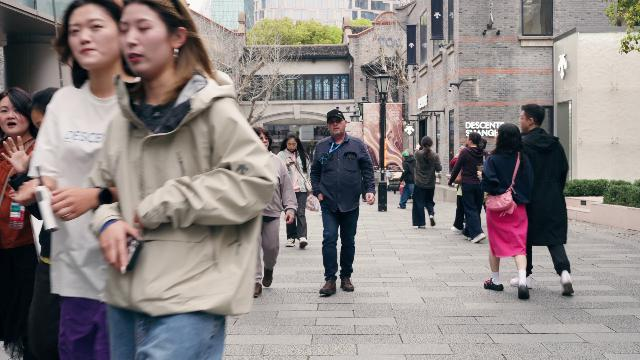person: (84, 0, 280, 360), (25, 0, 142, 360), (310, 110, 377, 296), (511, 103, 574, 295), (0, 87, 38, 360), (478, 123, 536, 299), (447, 132, 490, 244), (277, 131, 314, 248), (412, 136, 442, 228), (397, 151, 416, 209), (277, 129, 280, 140)
